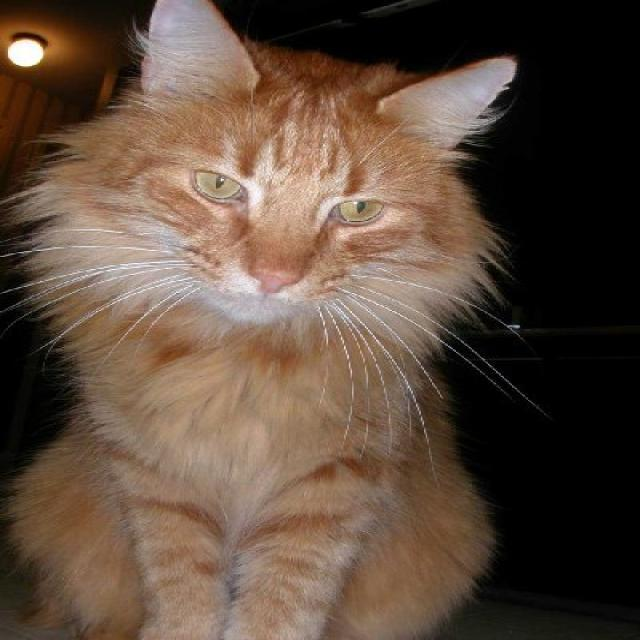Maine_Coon: (31, 3, 519, 359)
